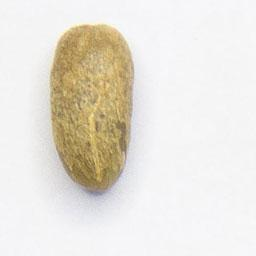longberry: (46, 18, 138, 196)
